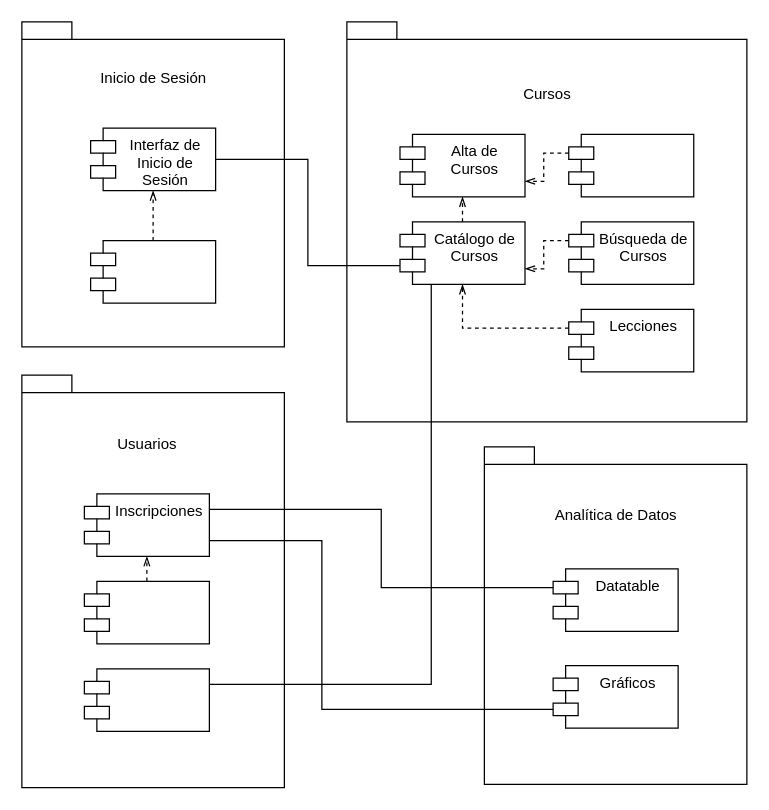
This 769x810 diagram has some shape labels left out. Each missing label, with the box of its shape:
Avances: (83, 580, 209, 644)
Identificación de Roles: (89, 239, 216, 303)
Modificación de Cursos: (568, 133, 694, 197)
Perfil Establecido: (83, 668, 209, 731)
